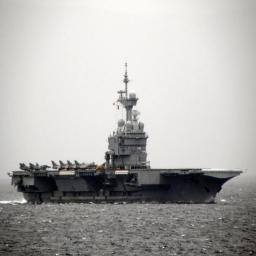Portanaves: (8, 63, 246, 207)
